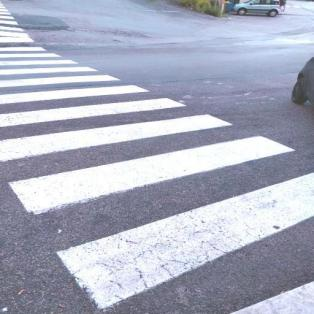Paso de Cebra: (1, 110, 314, 215)
